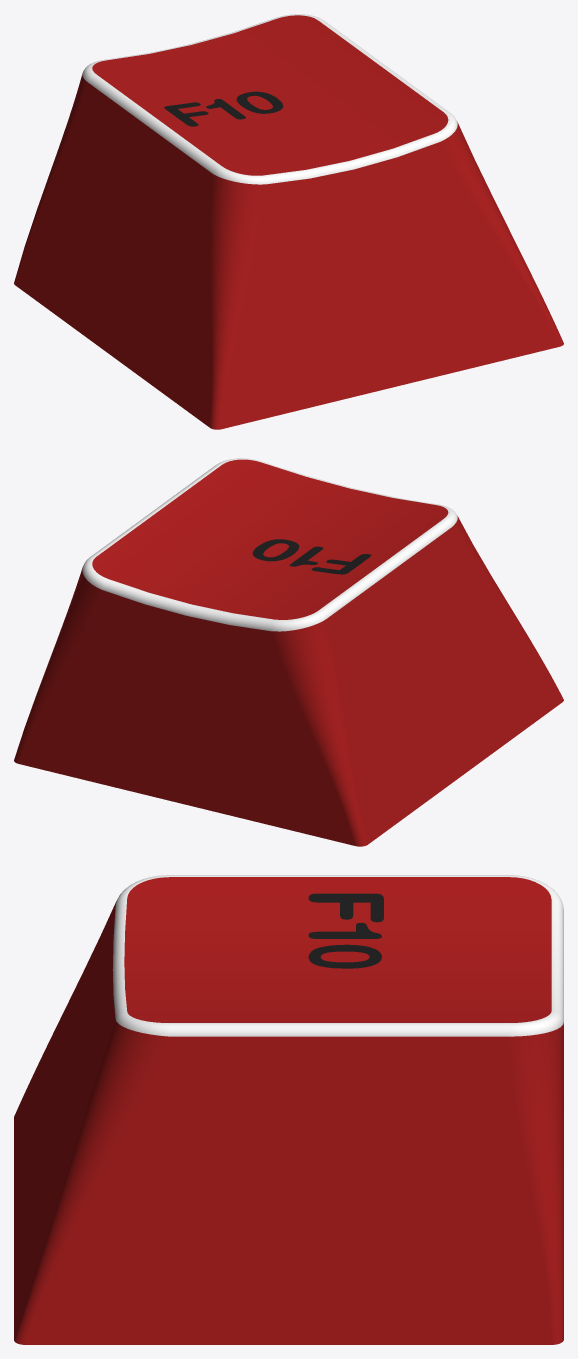
3 renders of one model, top to bottom at view 1: azimuth 30°, elevation 25°; view 2: azimuth 150°, elevation 25°; view 3: azimuth 270°, elevation 25°, orthographic. The views are drawn at different scales.
Parts seen in each view (by area): view 1: Body1; view 2: Body1; view 3: Body1.
Boxes of the visible parts, x1,y1,x2,y2 form: Body1: [14, 14, 563, 429]; Body1: [14, 458, 563, 846]; Body1: [14, 875, 563, 1344].
Bounding box in the file's own units: 18 × 10.07 × 18.
